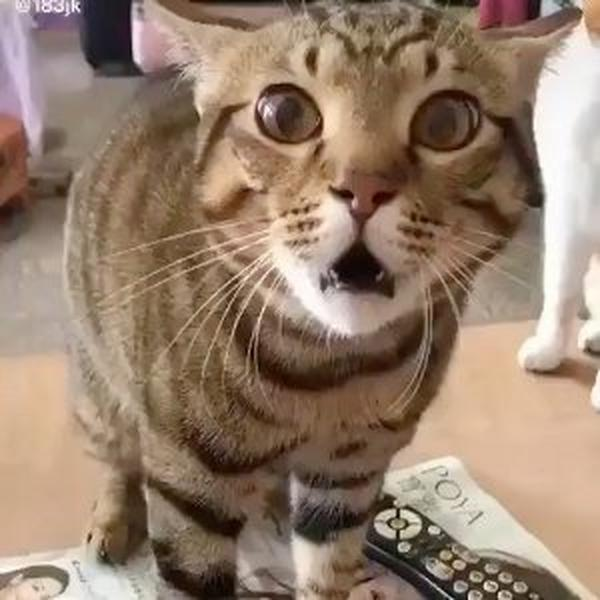michi: (47, 4, 586, 599)
